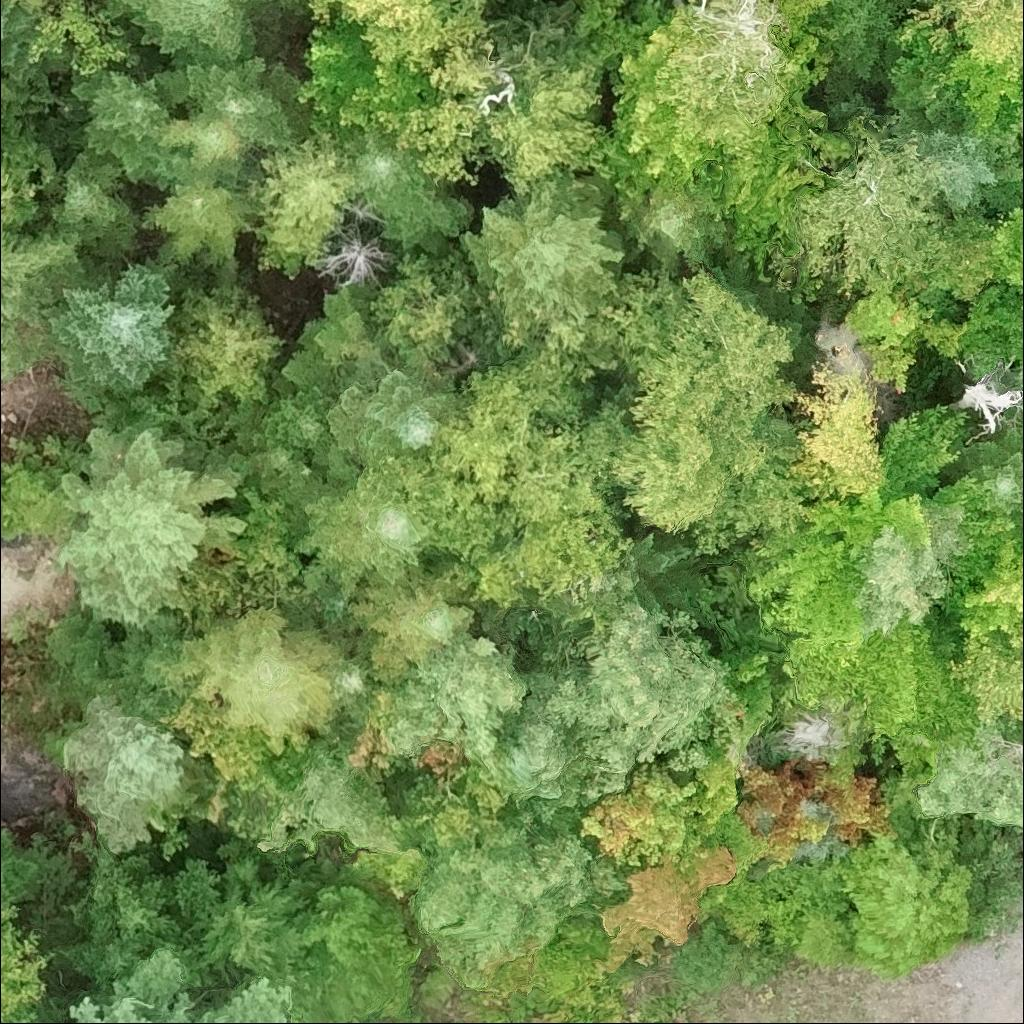crown: (743, 403, 970, 672), (585, 270, 798, 535), (516, 602, 736, 803), (50, 422, 252, 628), (590, 13, 785, 222), (424, 348, 607, 559), (459, 171, 626, 380), (411, 806, 595, 991), (794, 113, 962, 301), (158, 601, 347, 759), (61, 694, 200, 855), (290, 454, 440, 598), (382, 629, 526, 771), (311, 351, 455, 489), (40, 254, 178, 398), (367, 42, 503, 187), (839, 835, 976, 975), (591, 844, 738, 974), (64, 946, 300, 1023), (180, 851, 320, 980), (341, 126, 478, 256), (252, 733, 395, 855), (347, 561, 484, 688), (476, 61, 605, 193), (573, 761, 717, 869), (155, 51, 311, 146), (244, 129, 355, 262), (682, 453, 821, 558), (841, 284, 971, 396), (305, 0, 488, 77), (65, 66, 177, 190), (570, 525, 702, 630), (790, 356, 886, 500), (169, 282, 285, 398), (268, 281, 384, 396), (370, 249, 474, 372), (140, 182, 258, 286), (913, 724, 1023, 827), (45, 144, 144, 257), (891, 112, 999, 211), (960, 202, 1023, 371), (292, 19, 387, 131), (89, 612, 184, 719), (118, 0, 271, 66), (0, 223, 95, 329), (494, 725, 588, 823), (942, 415, 1023, 528), (27, 0, 140, 74), (60, 916, 169, 991), (896, 0, 1023, 63), (624, 182, 707, 276), (946, 44, 1023, 138), (0, 898, 56, 1023), (90, 873, 188, 943), (957, 541, 1023, 640), (158, 115, 246, 189), (733, 758, 827, 826), (250, 386, 332, 462), (310, 224, 402, 289), (822, 772, 899, 846), (764, 706, 851, 761), (791, 907, 859, 969), (0, 3, 48, 88), (0, 144, 42, 233), (765, 811, 831, 867), (692, 750, 741, 825), (0, 827, 42, 902), (323, 653, 372, 710), (312, 587, 355, 627), (0, 74, 17, 106), (106, 0, 125, 14), (605, 0, 627, 8), (280, 0, 303, 5), (529, 0, 564, 3), (339, 1020, 355, 1023), (75, 0, 86, 2)
